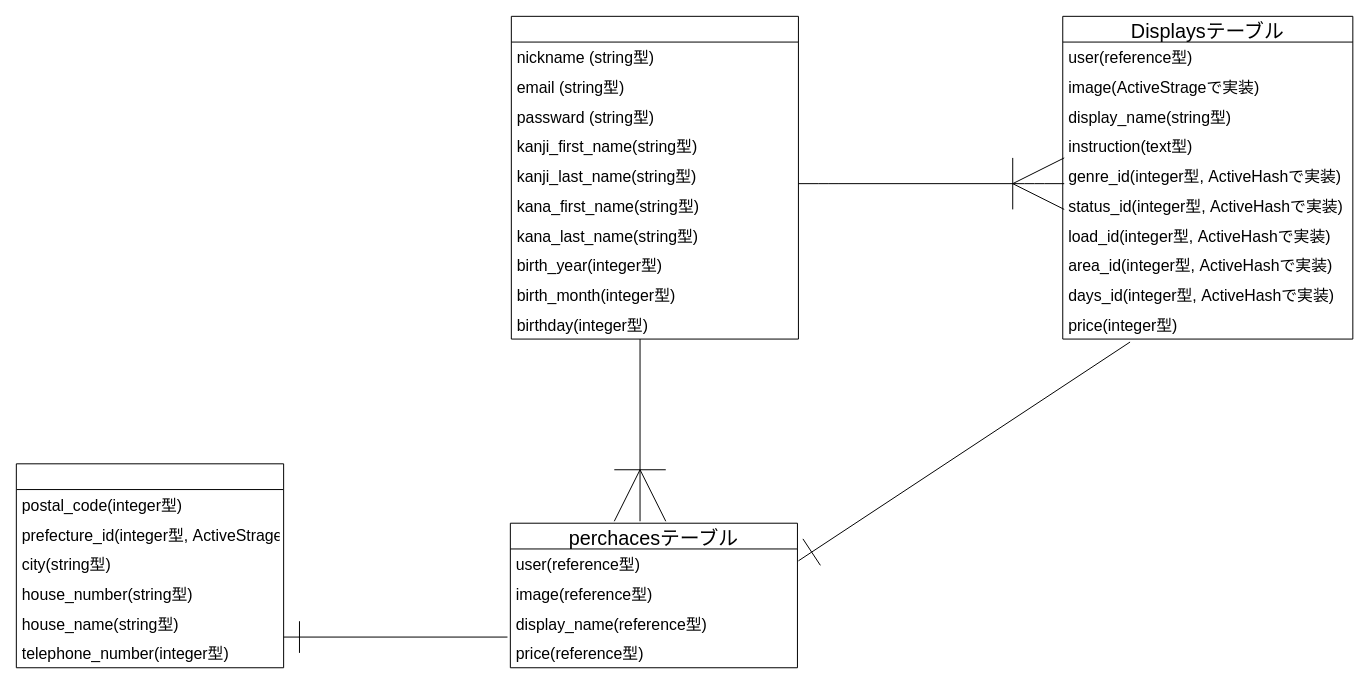
This 1369x684 diagram has some shape labels left out. The shapes that lost their labels are listed below. From the top down, each one's box as (x1, y1, x2, y2) in pixels, then its label:
(510, 15, 798, 339): Usersテーブル
(15, 463, 284, 668): shipping_addressテーブル
